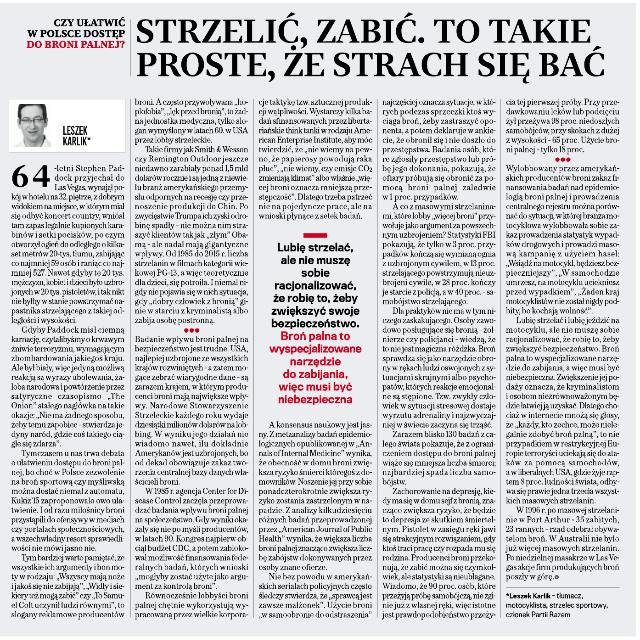author: (60, 122, 94, 148)
body: (380, 96, 498, 622), (132, 98, 250, 620), (502, 98, 624, 584), (7, 158, 128, 624), (256, 418, 376, 622), (266, 230, 366, 408), (255, 96, 375, 222)
title: (22, 13, 610, 87)
